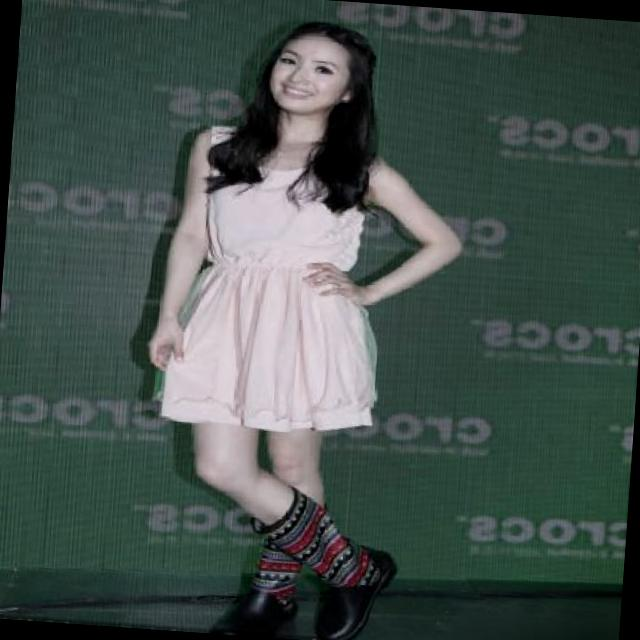Person: (120, 11, 471, 640)
